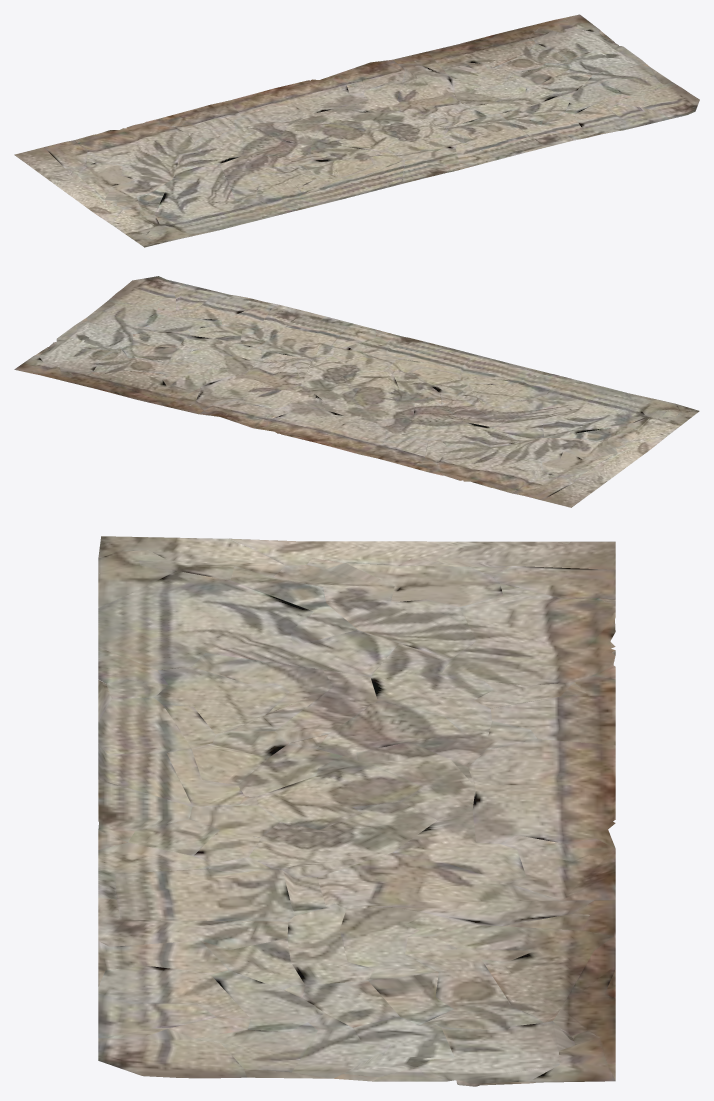
The model's file is roman-mosaic-bird-vine.glb.
3 renders of one model, top to bottom at view 1: azimuth 30°, elevation 25°; view 2: azimuth 150°, elevation 25°; view 3: azimuth 270°, elevation 25°, orthographic. The views are drawn at different scales.
Visible parts, largest first — view 1: Object_3; view 2: Object_3; view 3: Object_3.
Part boxes in pixels (left/top/right/bottom): Object_3: left=14, top=14, right=699, bottom=247; Object_3: left=14, top=276, right=699, bottom=507; Object_3: left=98, top=536, right=615, bottom=1086.
Bounding box in the file's own units: 2.71 × 0.0347 × 1.09.
1 material, 1 textured.
